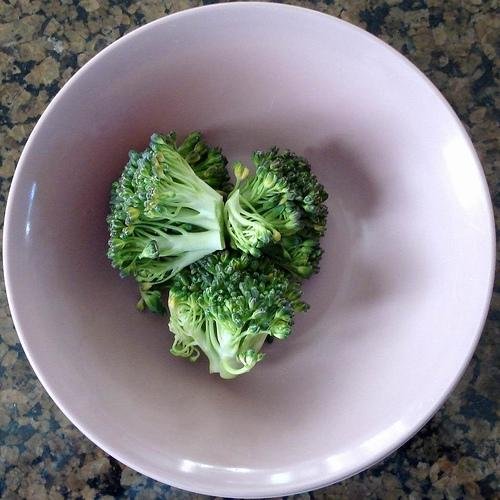broccoli: (106, 131, 227, 293), (168, 250, 310, 379), (222, 188, 302, 258), (176, 130, 234, 206)
